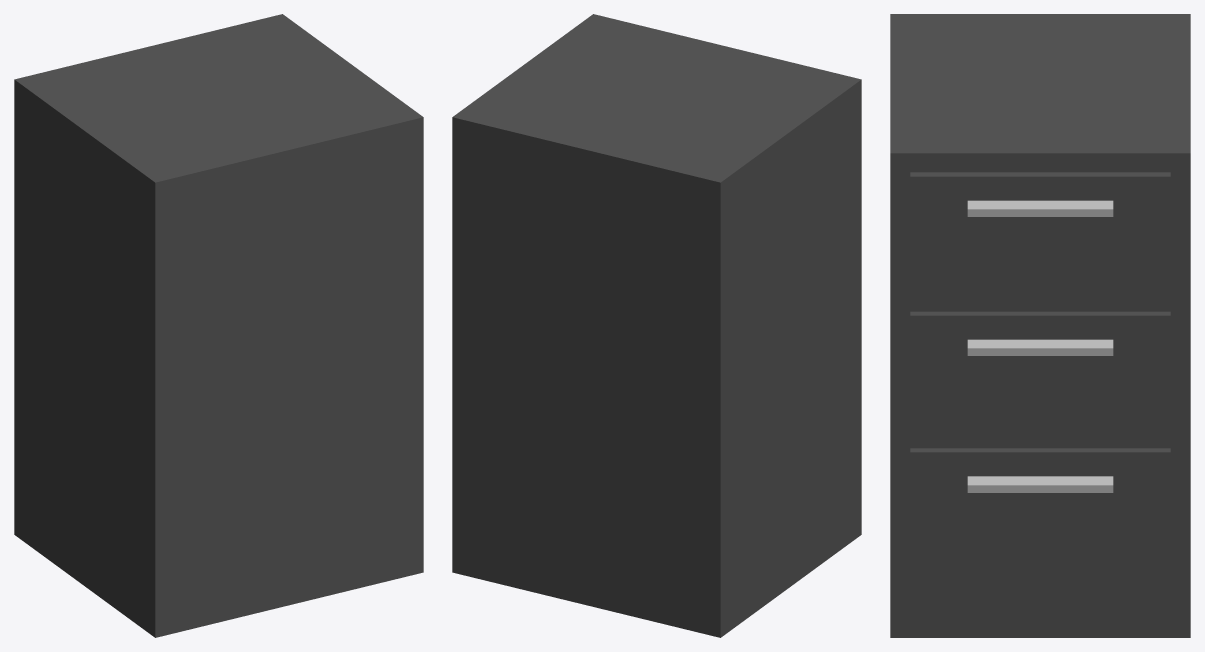
File: Skuffeparti_1.fbx
The picture shows the model from 3 angles, left to right: view 1: azimuth 30°, elevation 25°; view 2: azimuth 150°, elevation 25°; view 3: azimuth 270°, elevation 25°; orthographic projection. The views are drawn at different scales.
Visible parts, largest first — view 1: Skuffeparti_1; view 2: Skuffeparti_1; view 3: Skuffeparti_1, Skuffeparti_1Skuffe.001, Skuffeparti_1Skuffe, Skuffeparti_1Skuffe.002.
Part boxes in pixels (x1,y1,x2,y2): Skuffeparti_1: (14,14,423,637); Skuffeparti_1: (452,14,861,637); Skuffeparti_1: (890,14,1190,637); Skuffeparti_1Skuffe.001: (910,311,1170,436); Skuffeparti_1Skuffe: (910,448,1170,572); Skuffeparti_1Skuffe.002: (910,172,1170,296).
Size of the model in its own units: 132 by 200 by 112.
